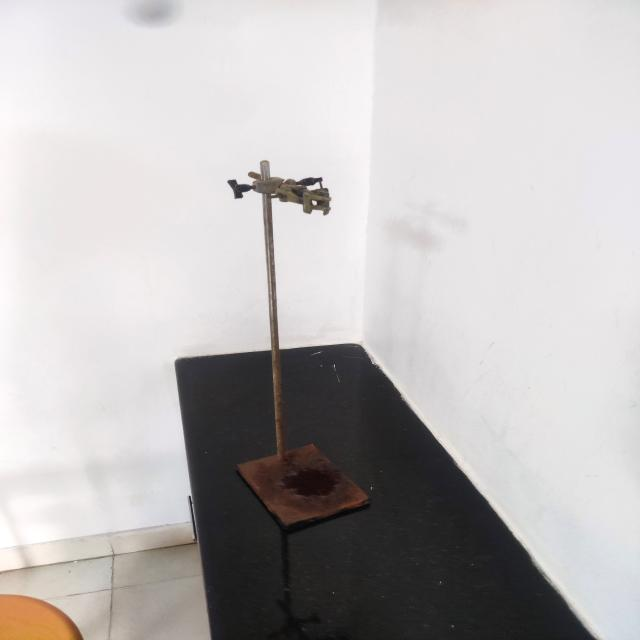Burette_Stands: (172, 124, 410, 558)
